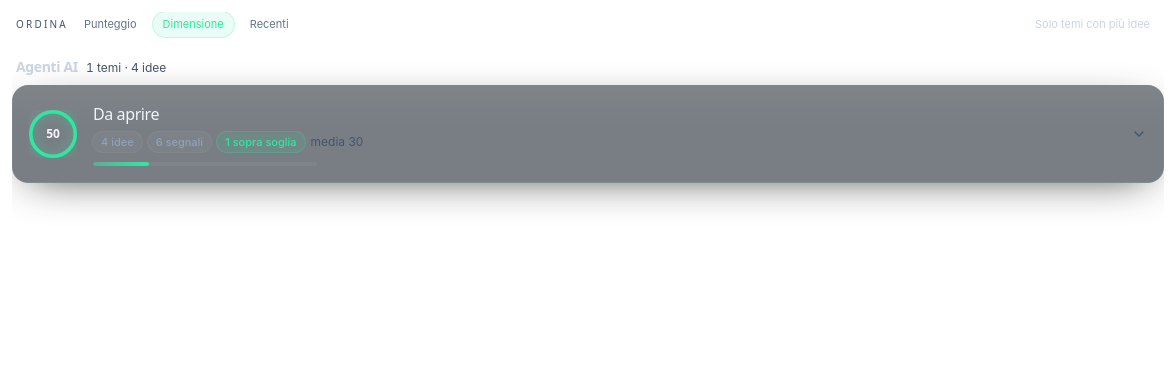
TopicsView › chiede le idee al server solo quando apri un tema
Expected: the heading "Da aprire" is shown, x1=93 y1=102 x2=159 y2=124
Click the button "50 Da aprire 4 idee 6 segnali 1 sopra soglia media 30" at (53, 134), box x1=13 y1=86 x2=1163 y2=182
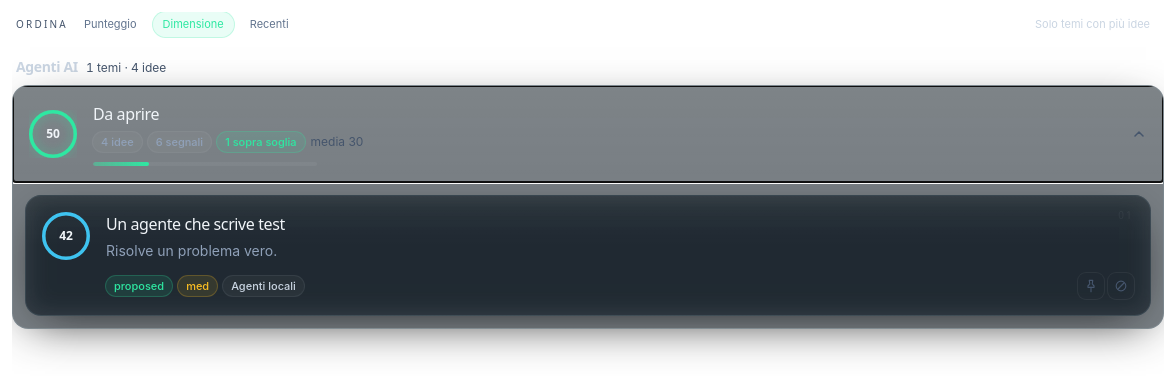
Expected: the text "Un agente che scrive test" is shown, x1=106 y1=212 x2=285 y2=236
